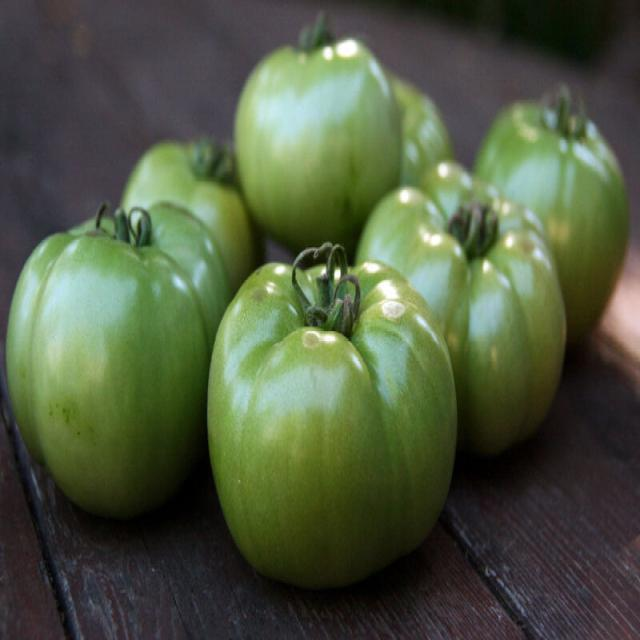yesil: (206, 232, 462, 568), (7, 177, 214, 507), (483, 57, 636, 336), (227, 41, 394, 234)
